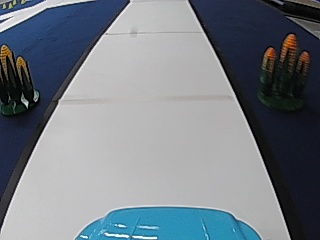corn: (257, 33, 310, 111), (0, 44, 41, 116)
